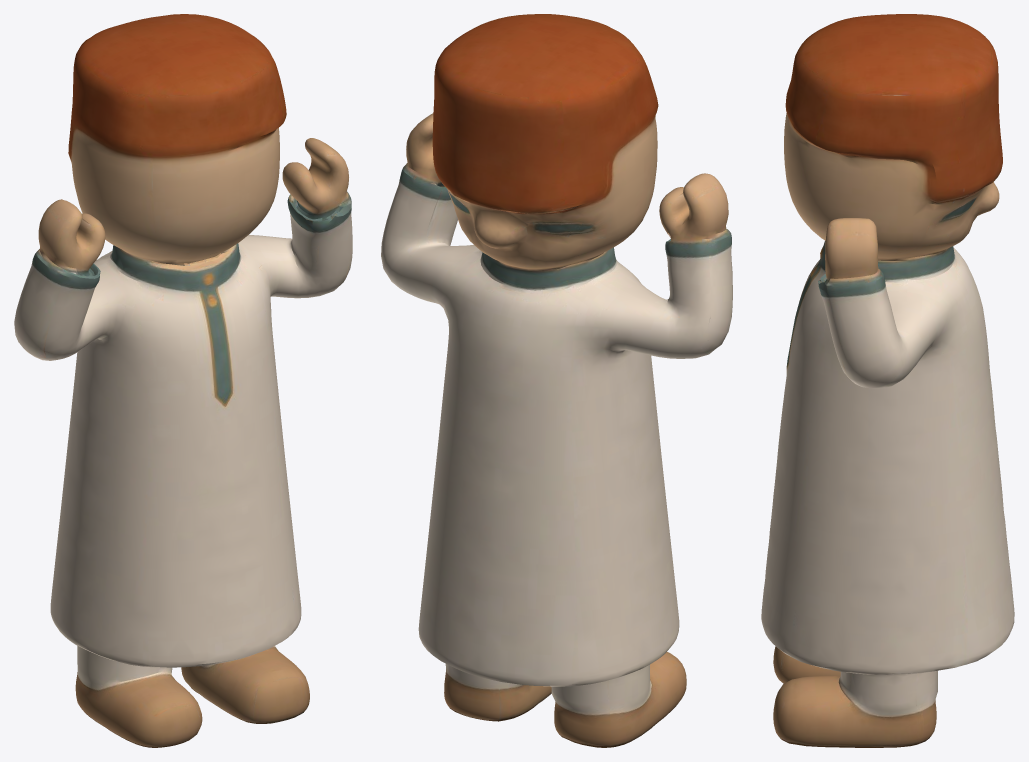
The model's file is Meshy_AI_model.glb.
3 renders of one model, left to right at view 1: azimuth 30°, elevation 25°; view 2: azimuth 150°, elevation 25°; view 3: azimuth 270°, elevation 25°, orthographic. The views are drawn at different scales.
Parts seen in each view (by area): view 1: Mesh0; view 2: Mesh0; view 3: Mesh0.
Part boxes in pixels (bbox=[...]): Mesh0: bbox=[14, 14, 352, 747]; Mesh0: bbox=[381, 14, 732, 747]; Mesh0: bbox=[761, 14, 1014, 747].
Bounding box in the file's own units: 0.9865 × 1.9 × 0.6478.
1 material, 1 textured.
